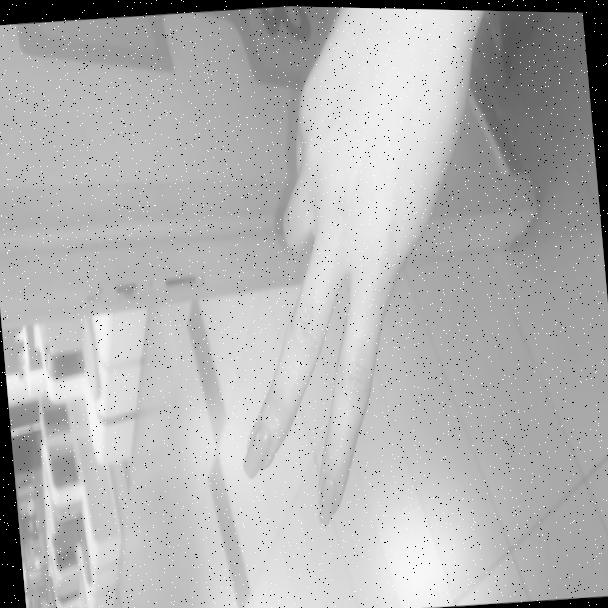two: (205, 37, 450, 543)
